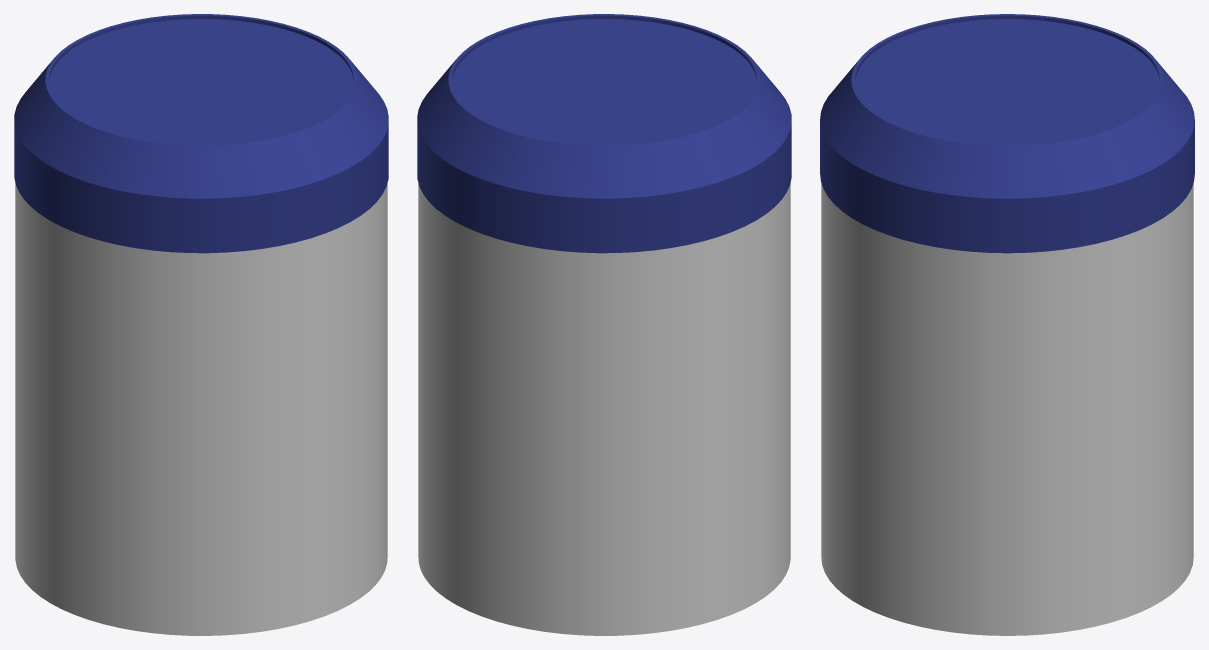
The picture shows the model from 3 angles, left to right: view 1: azimuth 30°, elevation 25°; view 2: azimuth 150°, elevation 25°; view 3: azimuth 270°, elevation 25°; orthographic projection.
Visible parts, largest first — view 1: body, cap; view 2: body, cap; view 3: body, cap.
Part boxes in pixels (x1,y1,x2,y2): body: (15,183,387,635); cap: (14,14,388,253); body: (418,183,790,635); cap: (417,14,791,253); body: (821,183,1193,635); cap: (820,14,1194,253).
Size of the model in its own units: 0.0996 by 0.14 by 0.0996.
